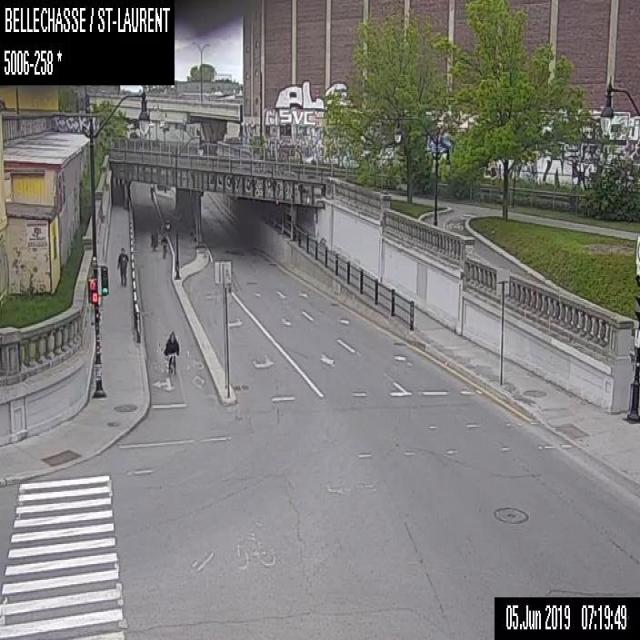cyclist: (163, 330, 178, 380), (160, 234, 167, 258)
pedestrian: (116, 245, 128, 286)
